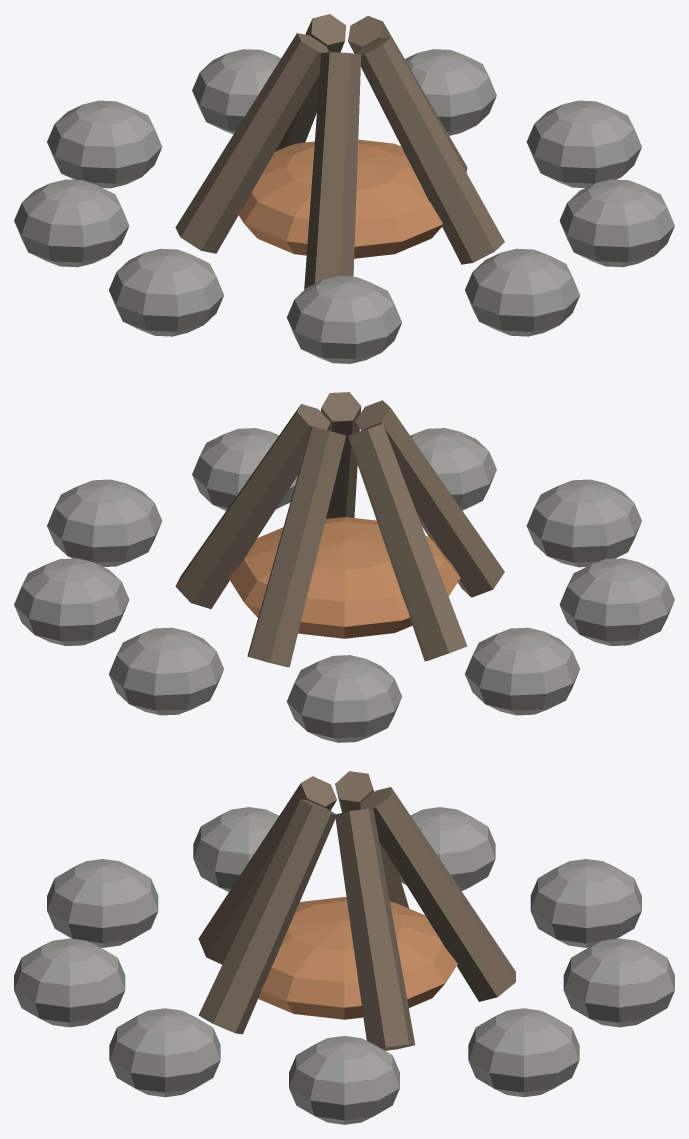
File: Campfire.fbx
The picture shows the model from 3 angles, top to bottom: view 1: azimuth 30°, elevation 25°; view 2: azimuth 150°, elevation 25°; view 3: azimuth 270°, elevation 25°; orthographic projection.
Parts seen in each view (by area): view 1: Campfire; view 2: Campfire; view 3: Campfire.
Boxes of the visible parts, <box> form: Campfire: <box>14,14,674,363</box>; Campfire: <box>14,392,674,742</box>; Campfire: <box>14,771,674,1124</box>.
Size of the model in its own units: 146 by 51.07 by 147.
